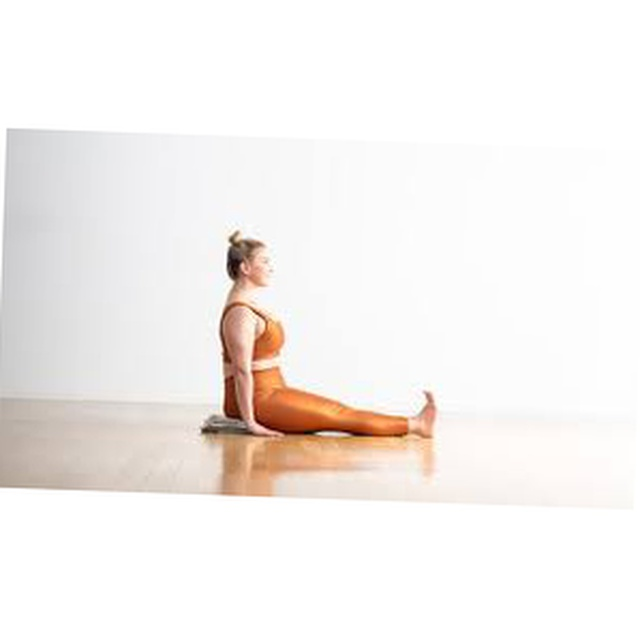Staff_Pose: (220, 230, 436, 440)
